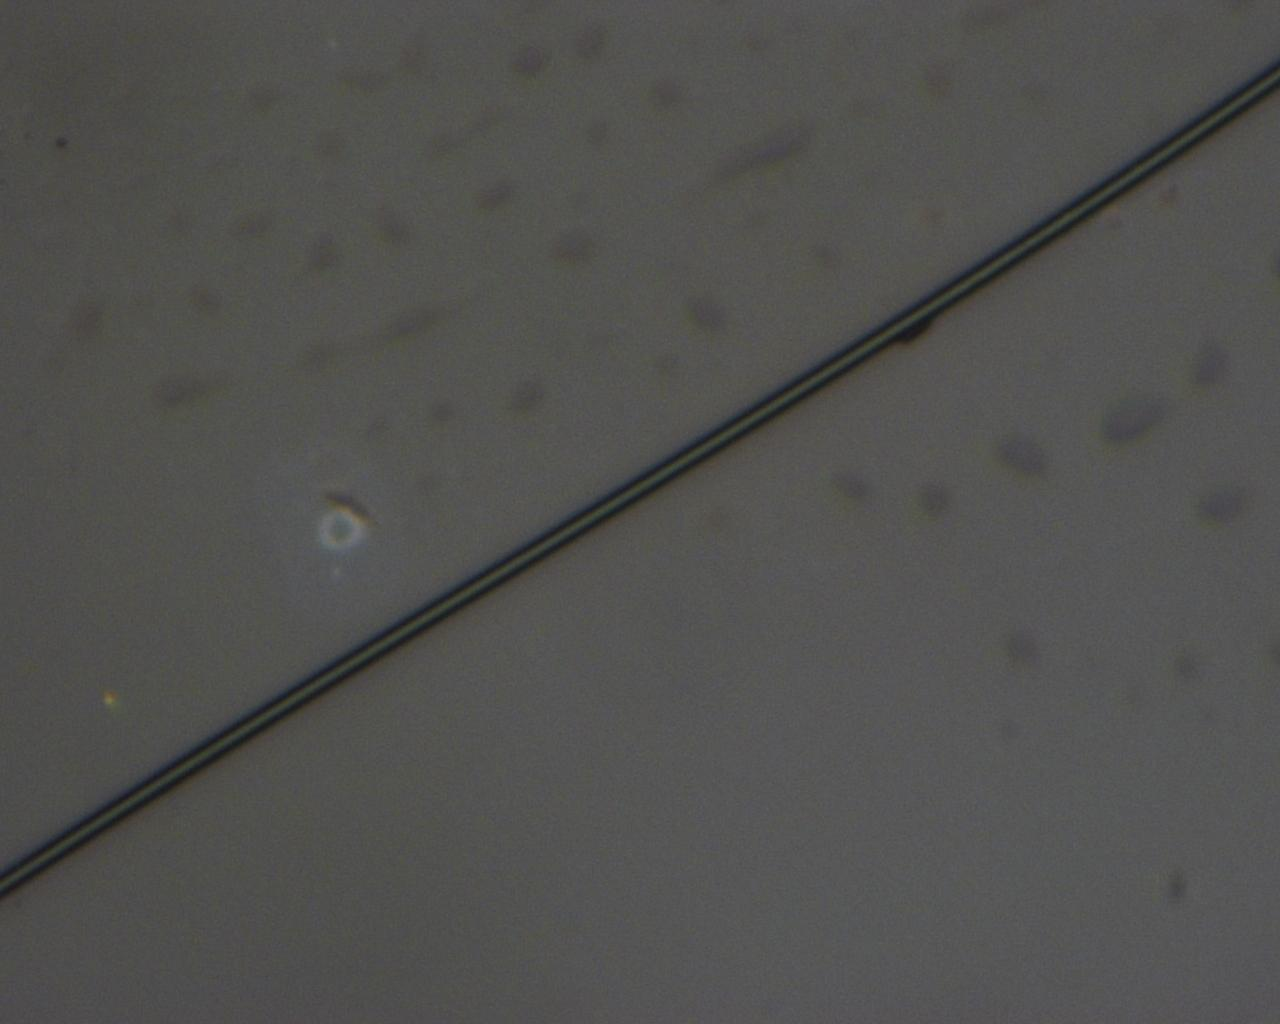fiber: (0, 63, 1280, 905)
